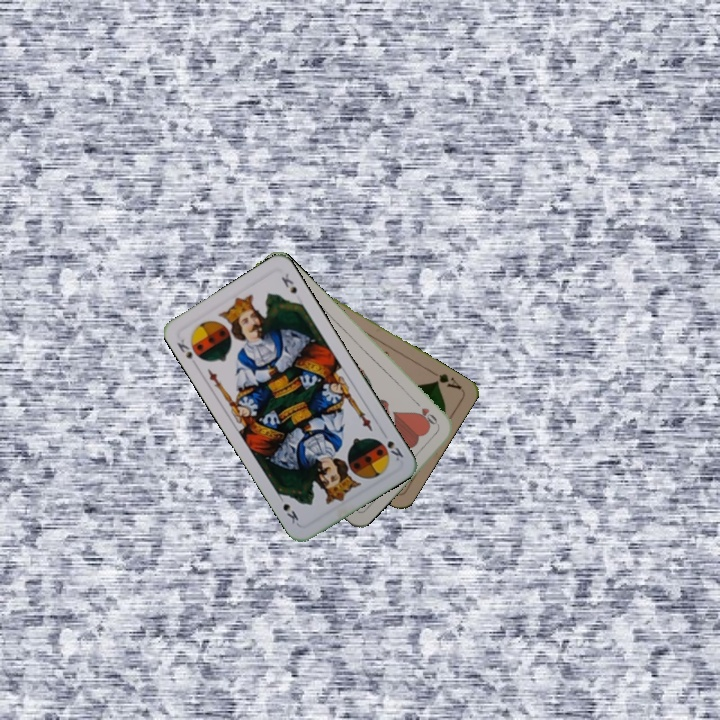GA: (427, 367, 464, 392)
HO: (410, 396, 442, 430)
SK: (173, 335, 201, 369), (383, 436, 406, 464)
